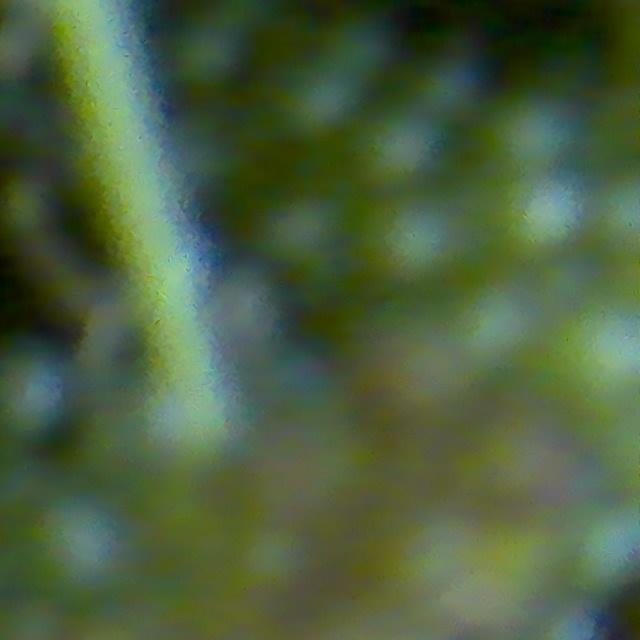SeaGrape: (549, 302, 640, 428), (359, 188, 467, 292), (26, 506, 132, 610), (448, 274, 545, 374), (489, 170, 588, 267), (472, 92, 568, 184), (260, 188, 352, 279), (360, 109, 443, 203), (276, 58, 362, 145), (568, 499, 640, 596), (318, 12, 397, 88), (172, 15, 245, 91), (0, 354, 63, 435), (411, 53, 484, 122), (591, 165, 639, 262)
